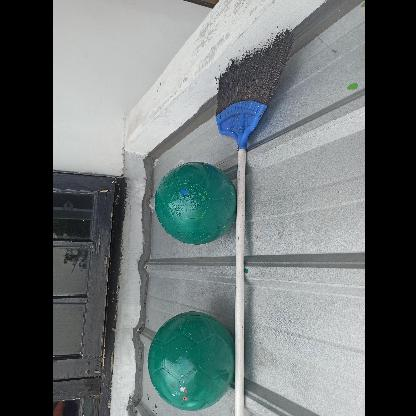green_ball: (142, 316, 238, 410), (152, 162, 235, 245)
